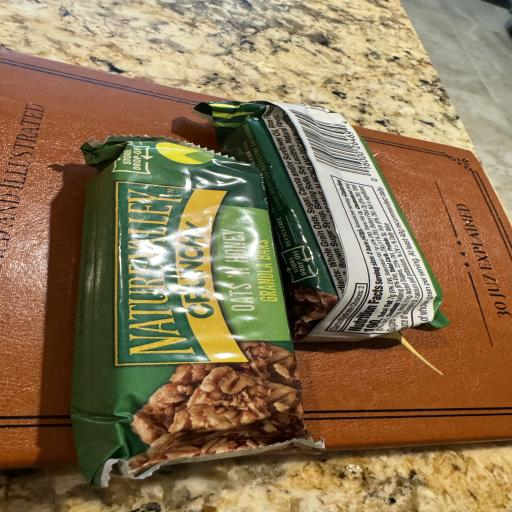granola: (72, 136, 321, 485), (196, 102, 449, 341)
